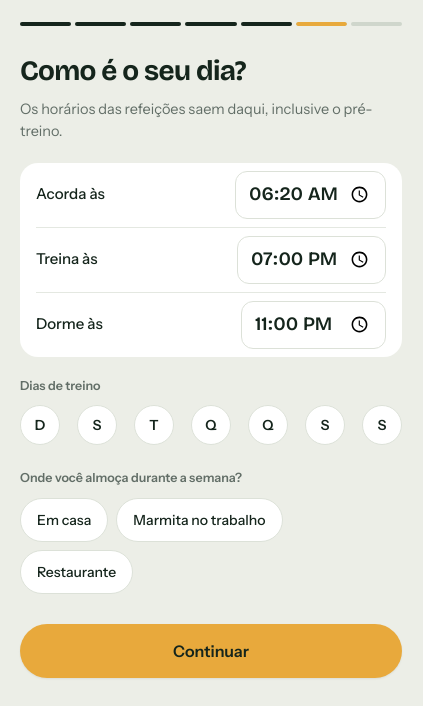
Test: Etapa Rotina (S07) › pede o lugar do almoço
(page scrolled)
expect the time field labelled "Treina às" is shown: met, box [237, 236, 386, 284]
Click the button "Continuar".
click(211, 651)  # box [20, 624, 402, 678]
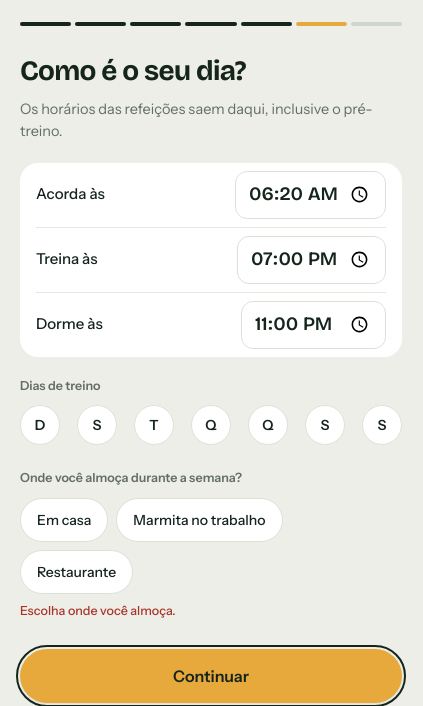
expect the text "Escolha onde você almoça." is shown: met, box [20, 603, 176, 618]
